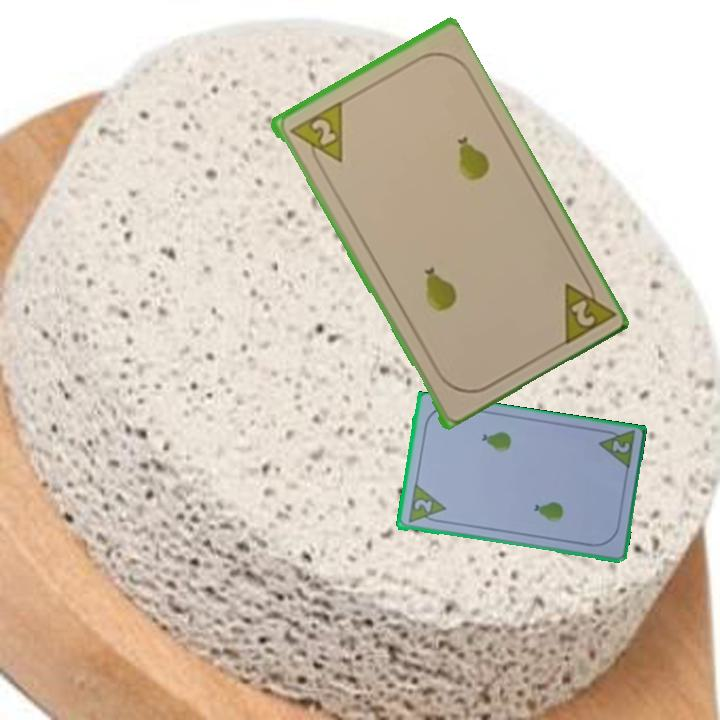2p: (556, 268, 616, 349), (285, 98, 346, 173), (404, 482, 448, 526), (608, 437, 633, 456)
